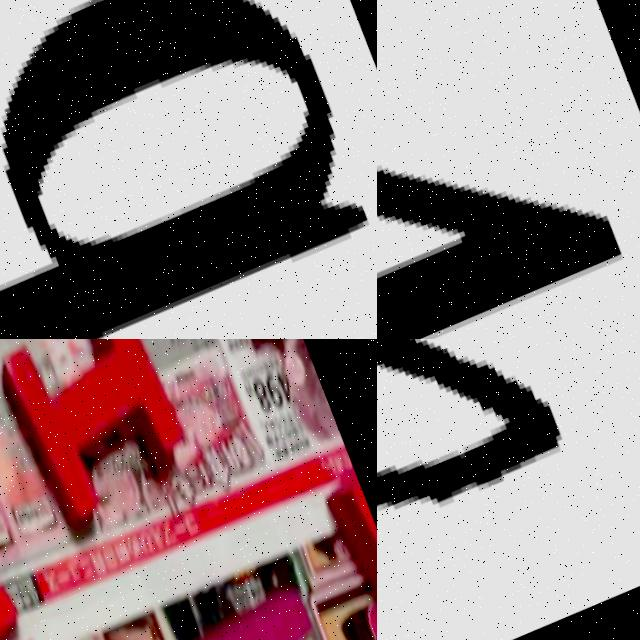B: (377, 339, 568, 510)
I: (0, 339, 214, 533)
Q: (0, 0, 377, 339)
U: (164, 579, 377, 640)
